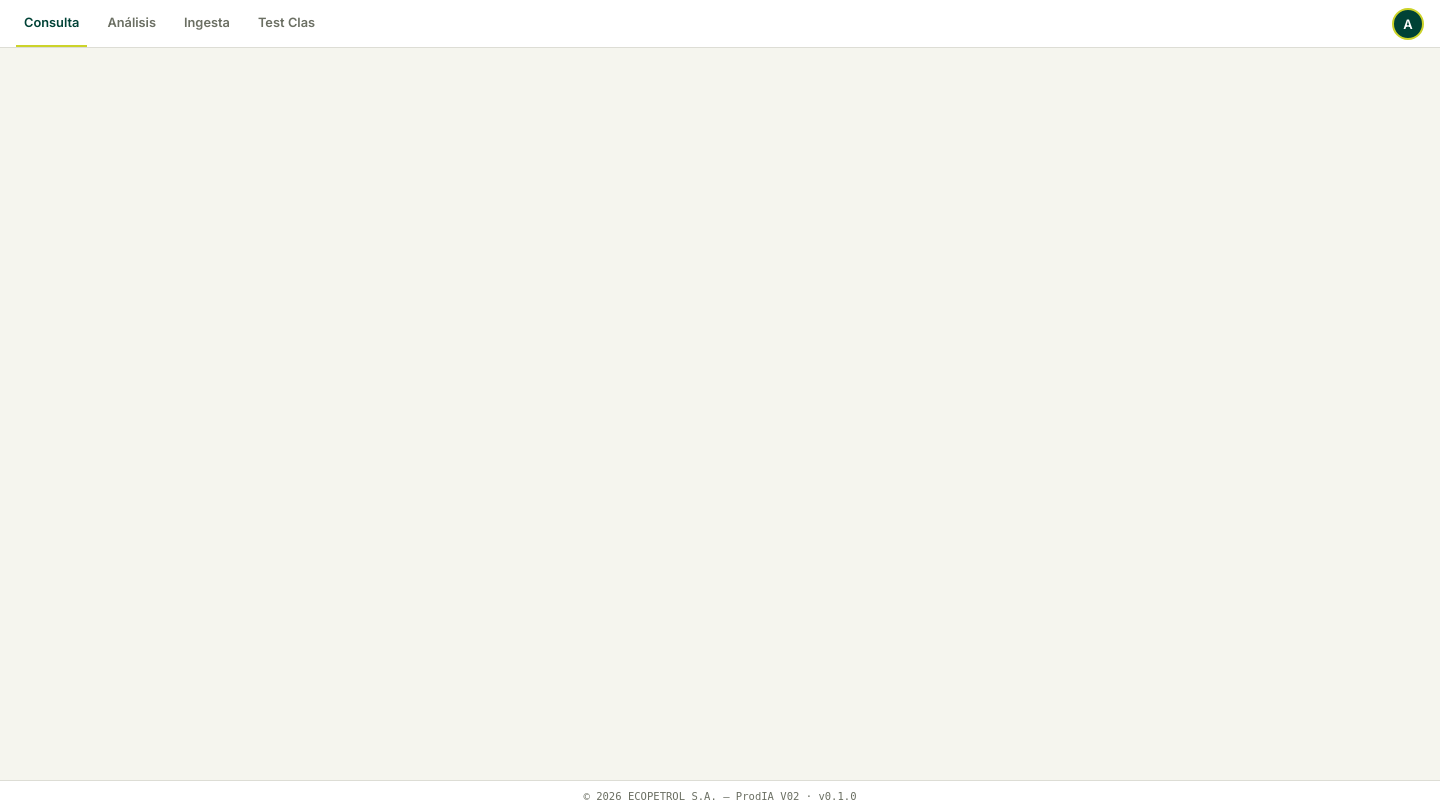
Scenario: LayoutMain › un clic fuera del header cierra el menú
Click the button named "Menú de usuario" at (1408, 24), box left=1392, top=8, right=1424, bottom=40
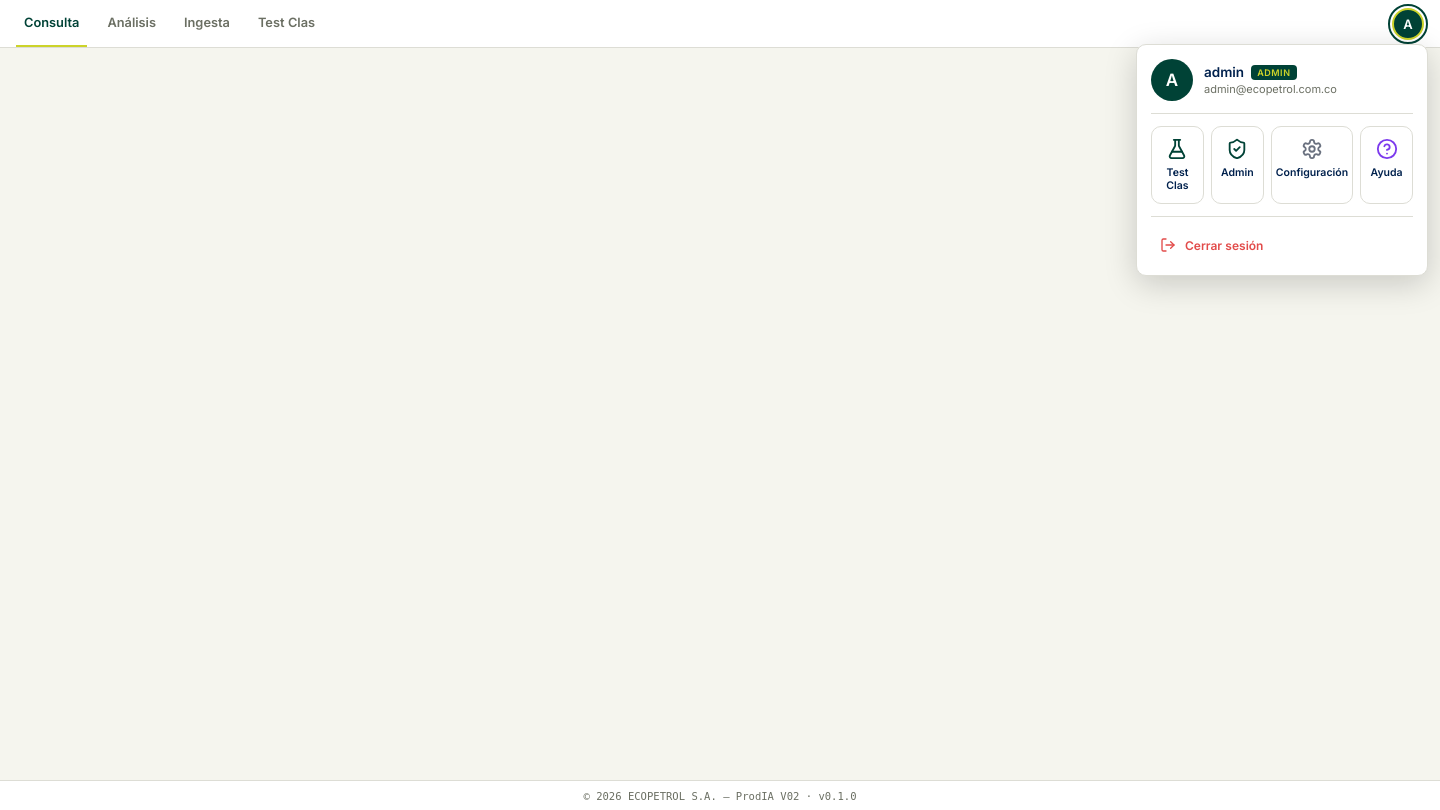
Check: the menu is shown, box left=1136, top=44, right=1428, bottom=276
Click the footer at (720, 795), box left=0, top=780, right=1439, bottom=809
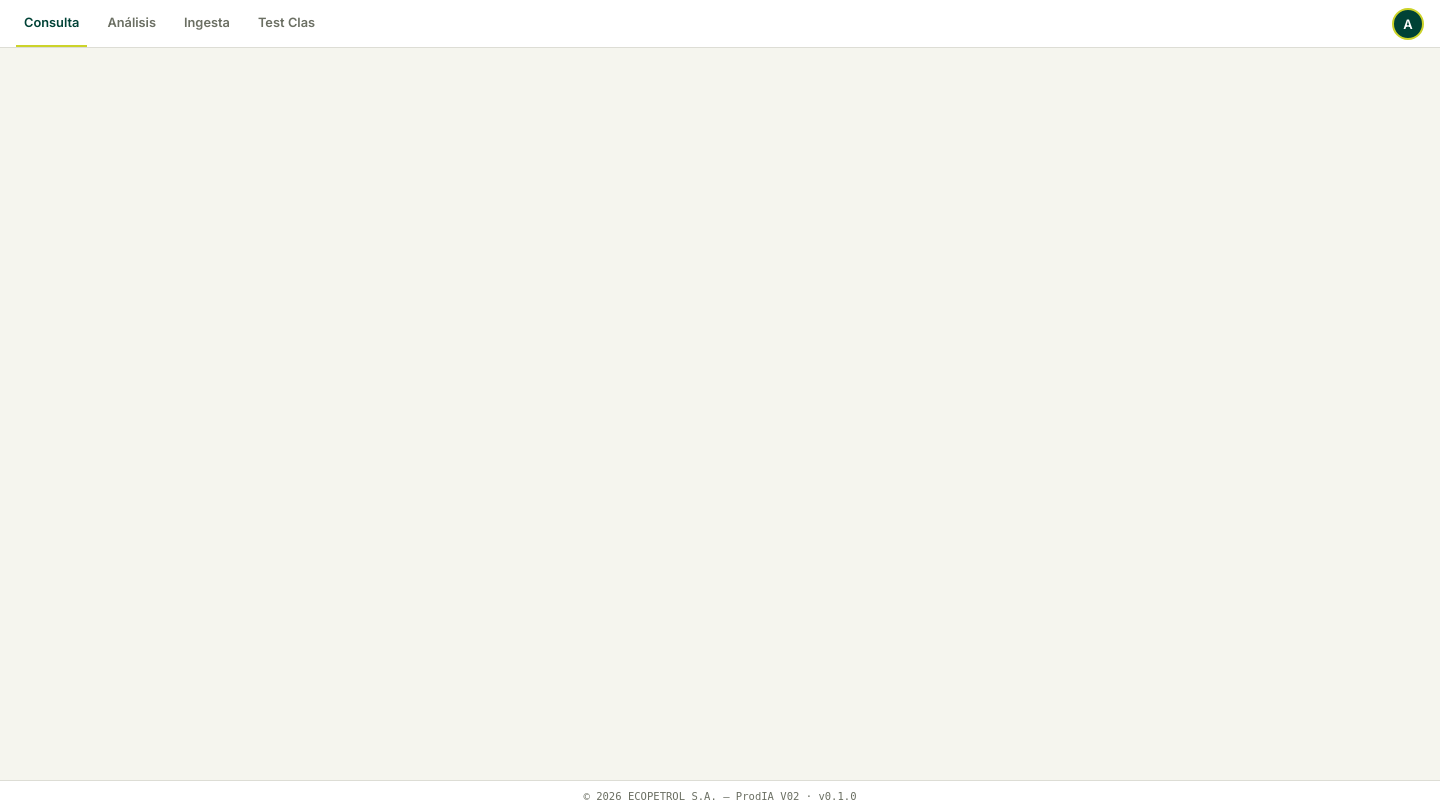
Check: the menu is gone
